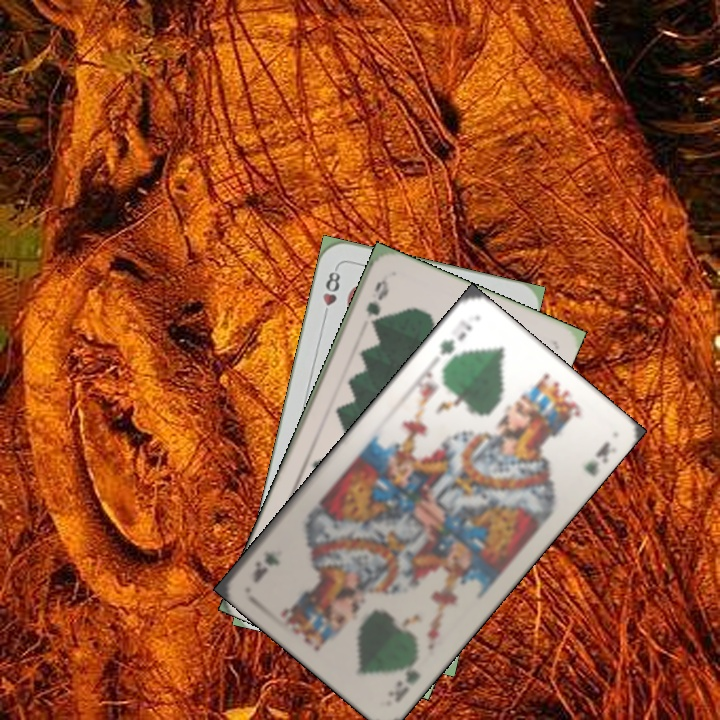G9: (361, 275, 392, 331)
GK: (435, 315, 475, 359), (390, 664, 424, 705)
H8: (319, 263, 343, 322)
